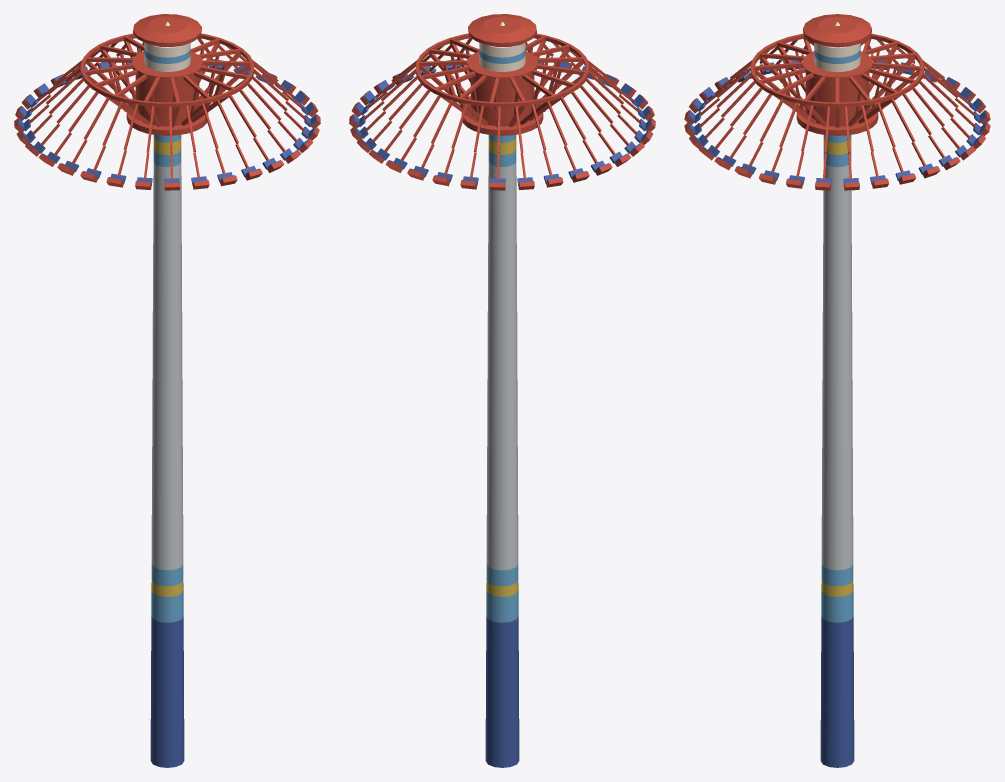
3 views of the same model, side by side, from view 1: azimuth 30°, elevation 25°; view 2: azimuth 150°, elevation 25°; view 3: azimuth 270°, elevation 25° (orthographic).
Parts seen in each view (by area): view 1: windseeker-carowinds; view 2: windseeker-carowinds; view 3: windseeker-carowinds.
Part boxes in pixels (x1=…): windseeker-carowinds: x1=14, y1=14, x2=320, y2=767; windseeker-carowinds: x1=349, y1=14, x2=655, y2=767; windseeker-carowinds: x1=684, y1=14, x2=990, y2=767.
Size of the model in its own units: 34.51 by 91.75 by 34.51.
